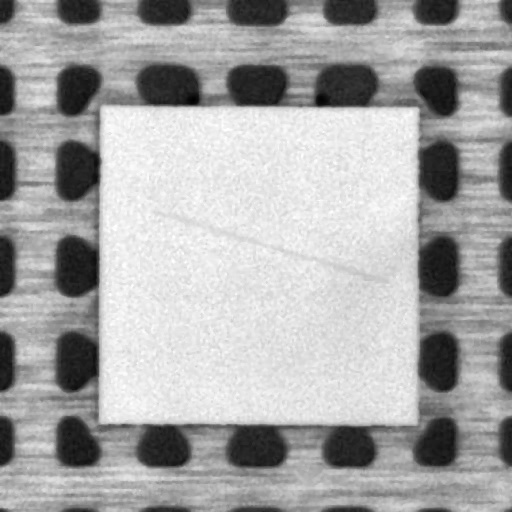DIE_CRACK: (150, 210, 388, 282)
